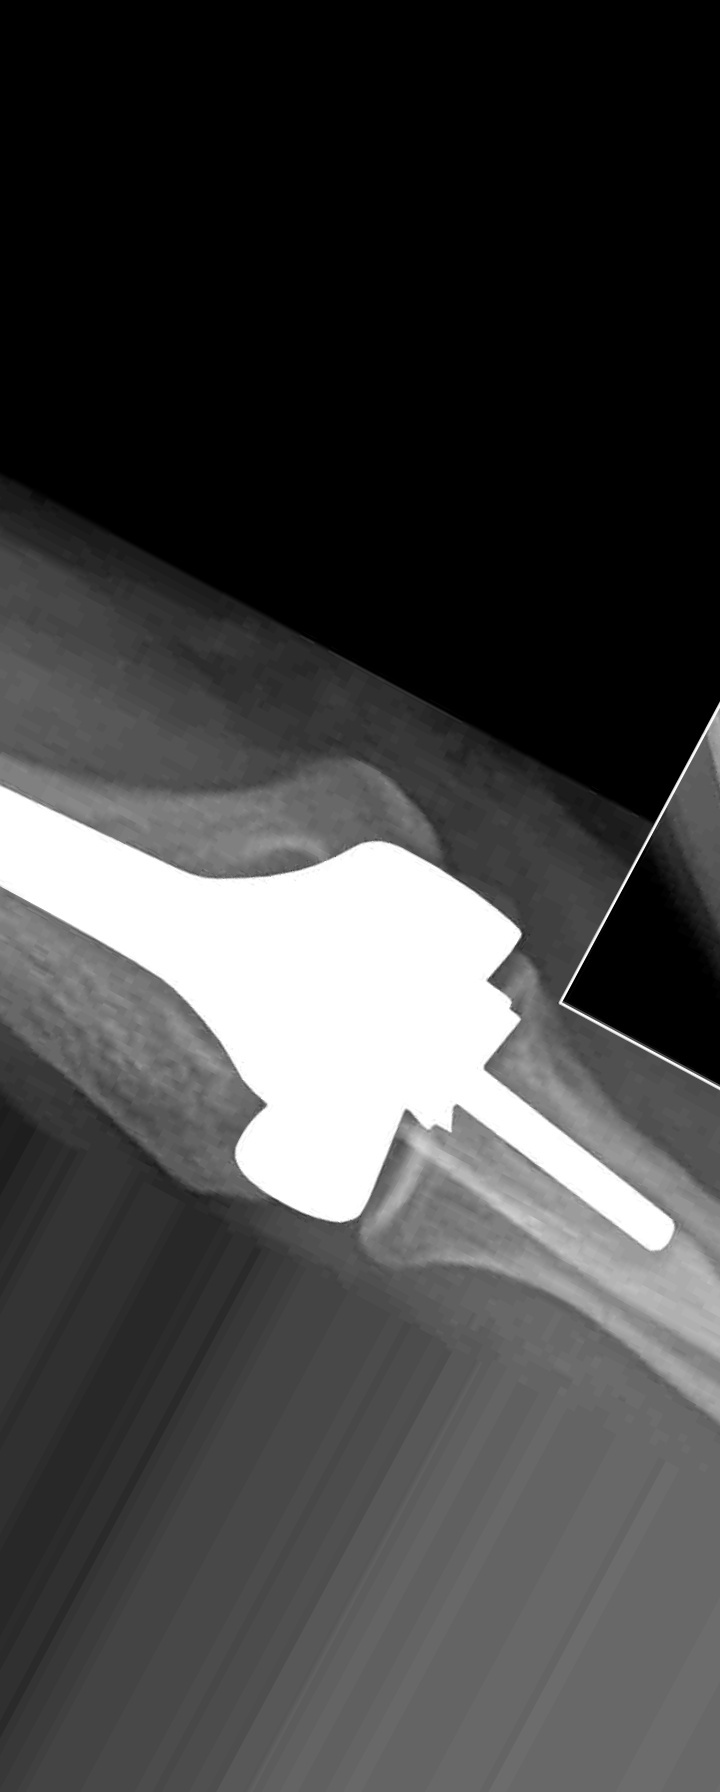Elbow - IBP - Biomet: (1, 767, 688, 1313)
